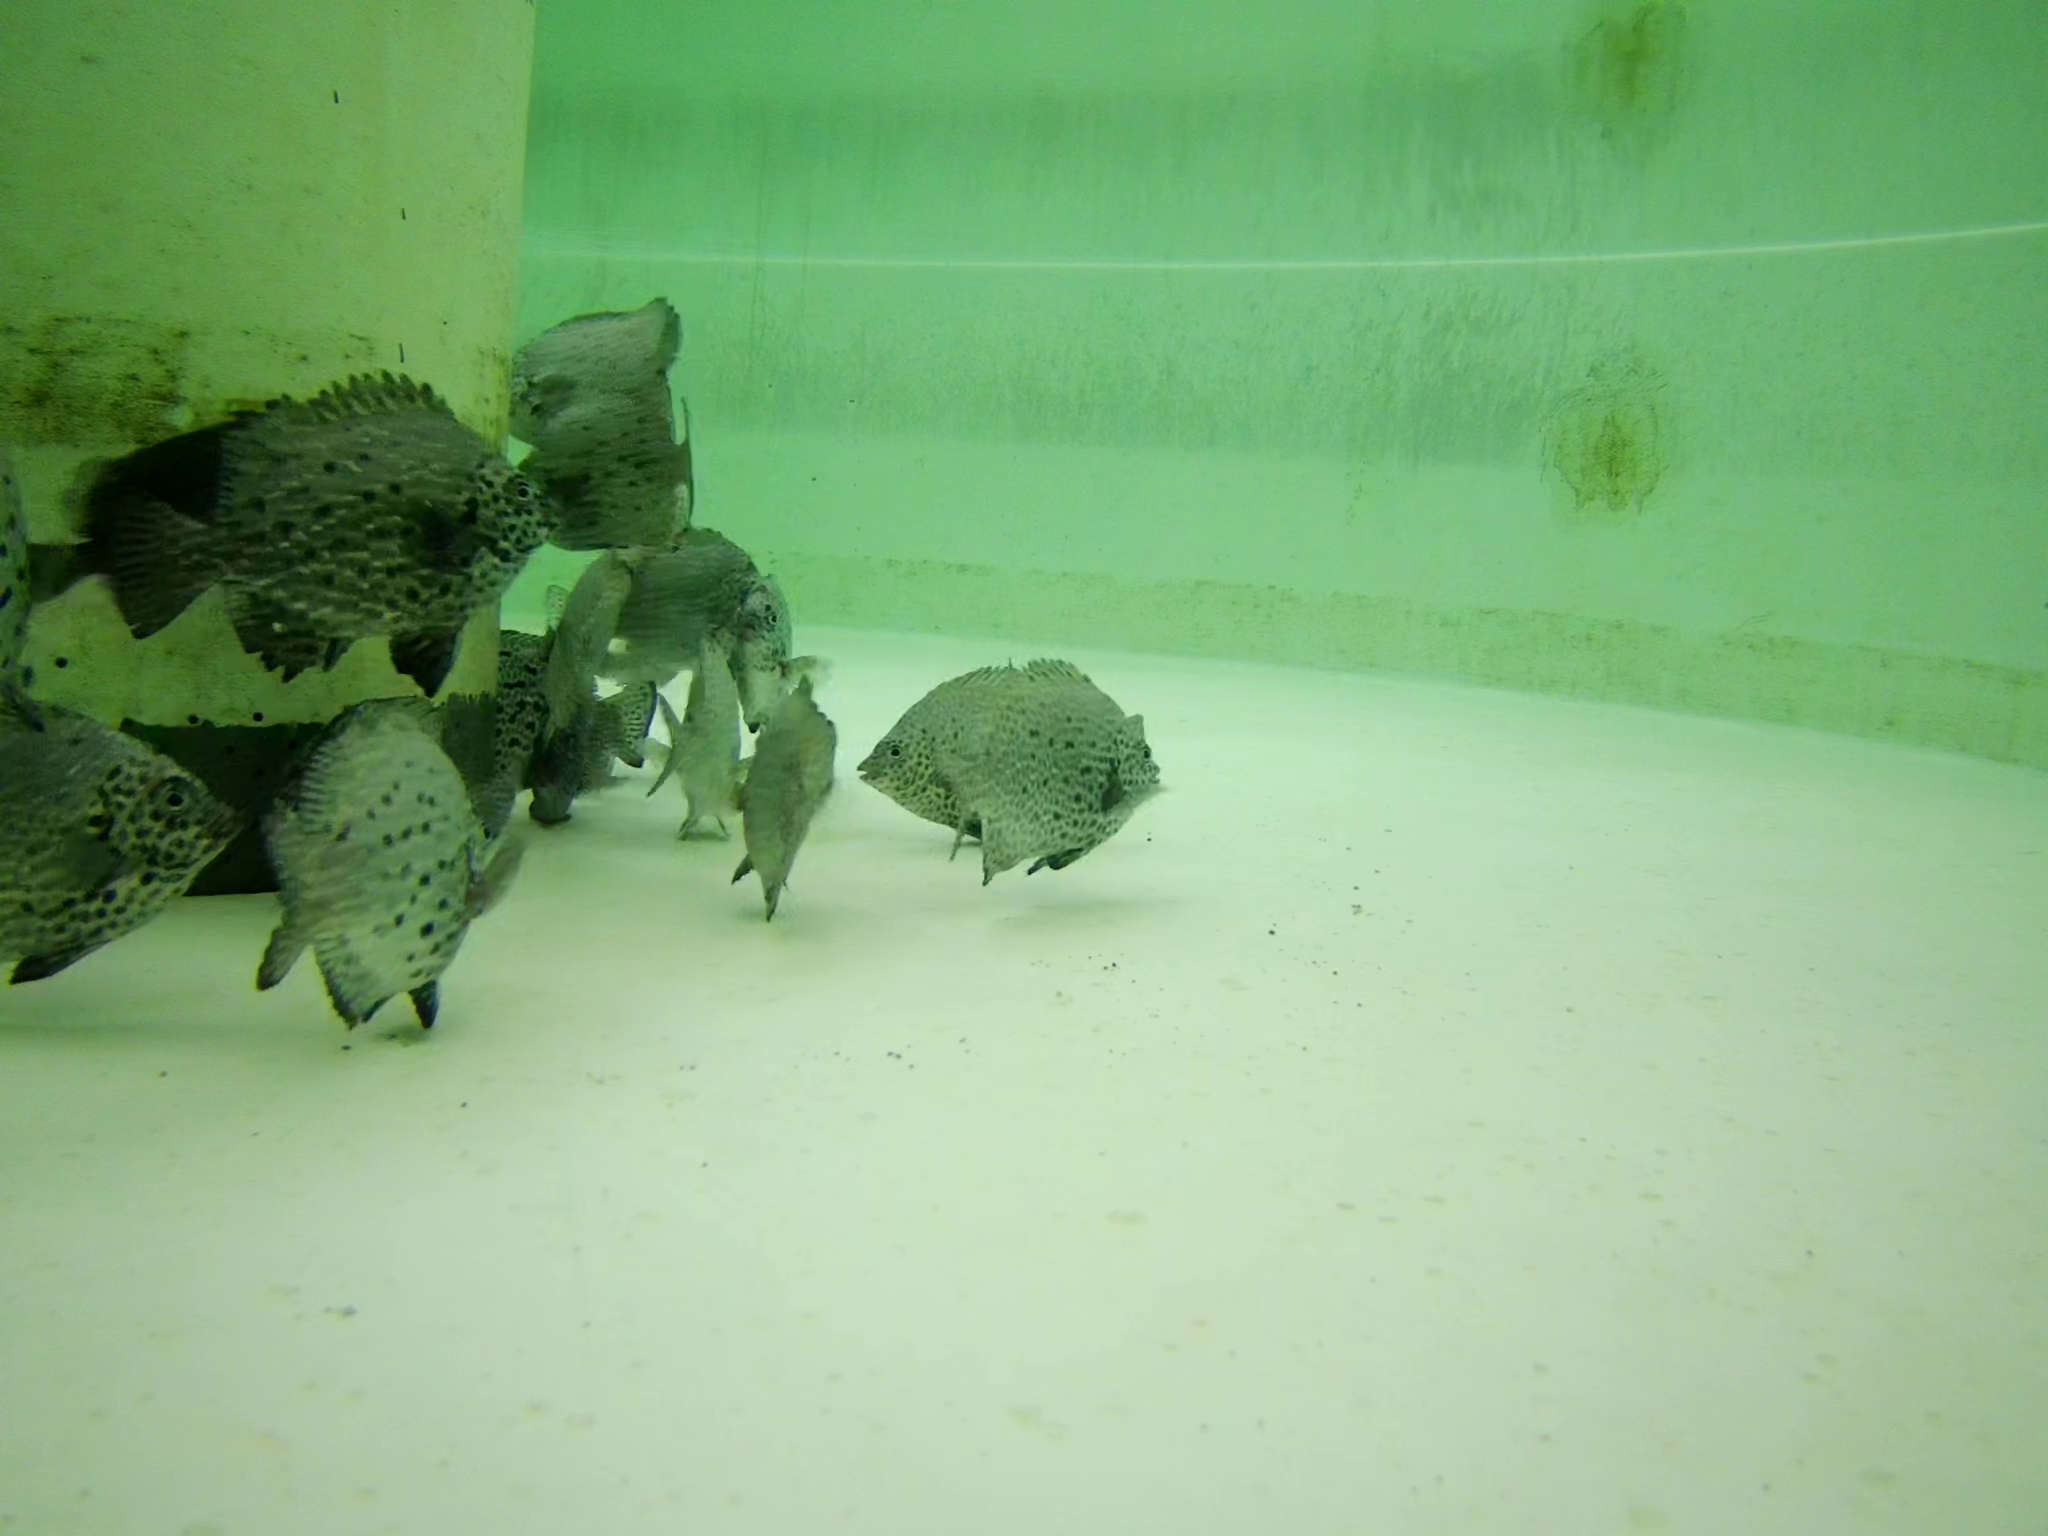fish: (39, 382, 535, 653), (260, 692, 534, 1050), (10, 691, 235, 992), (851, 652, 1148, 849), (950, 707, 1168, 858), (498, 408, 708, 557), (618, 532, 798, 682), (543, 557, 655, 795), (495, 295, 687, 432), (731, 679, 837, 916), (658, 650, 751, 850)
